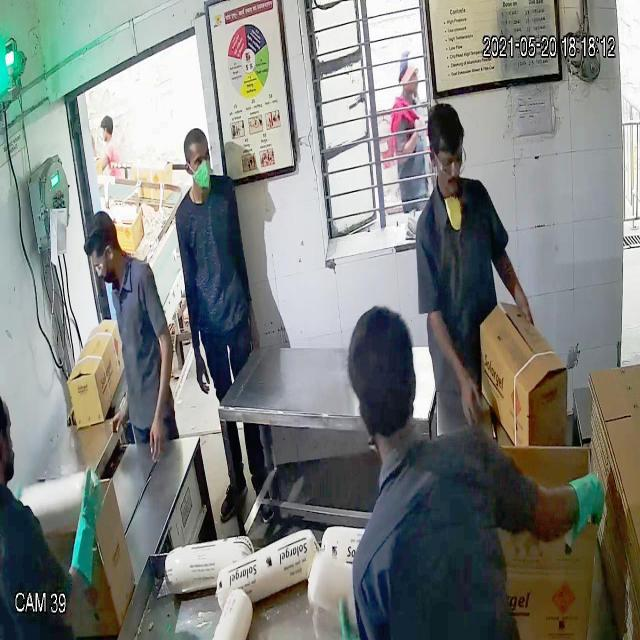glasses: (425, 144, 470, 174), (89, 248, 114, 276)
no-glass: (182, 150, 214, 172)
